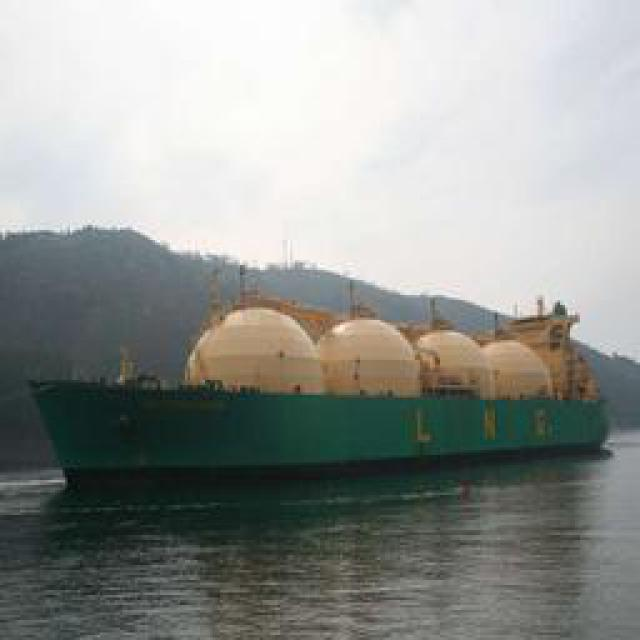Ship: (26, 339, 619, 502)
